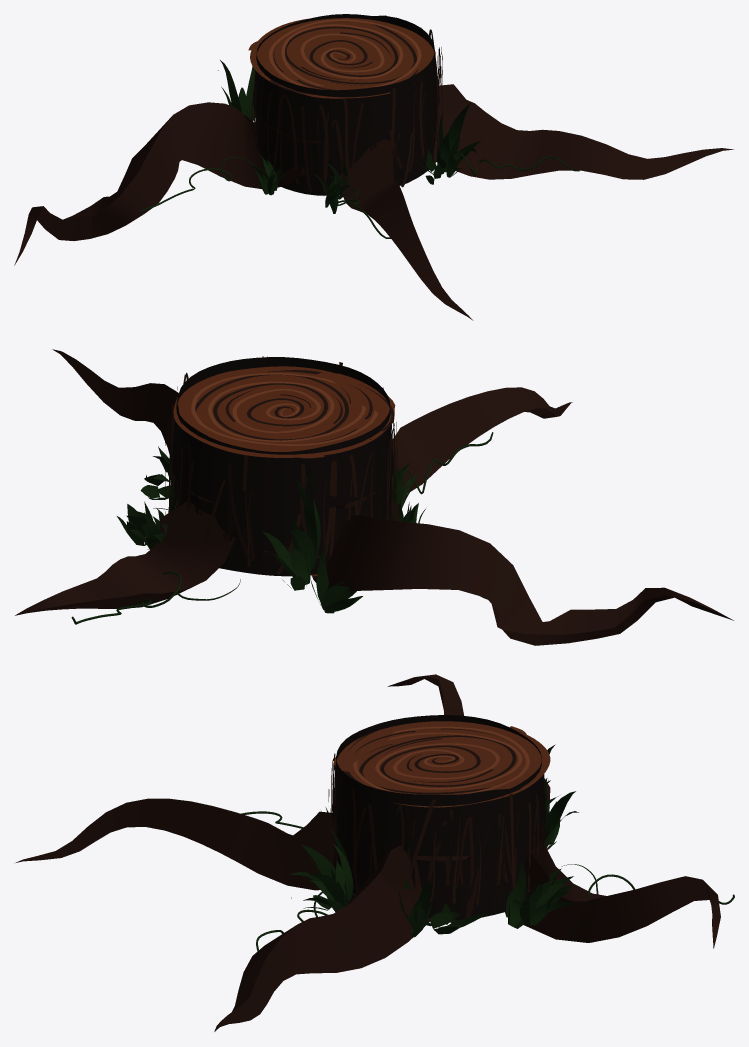
File: stuump.fbx
3 views of the same model, one above another, from view 1: azimuth 30°, elevation 25°; view 2: azimuth 150°, elevation 25°; view 3: azimuth 270°, elevation 25° (orthographic). The views are drawn at different scales.
Parts seen in each view (by area): view 1: brush_Marker_g0_b1; view 2: brush_Marker_g0_b1; view 3: brush_Marker_g0_b1.
Boxes of the visible parts, x1,y1,x2,y2 form: brush_Marker_g0_b1: (14,14,733,320); brush_Marker_g0_b1: (15,349,733,645); brush_Marker_g0_b1: (14,674,734,1031).
Size of the model in its own units: 972 by 204 by 817.
